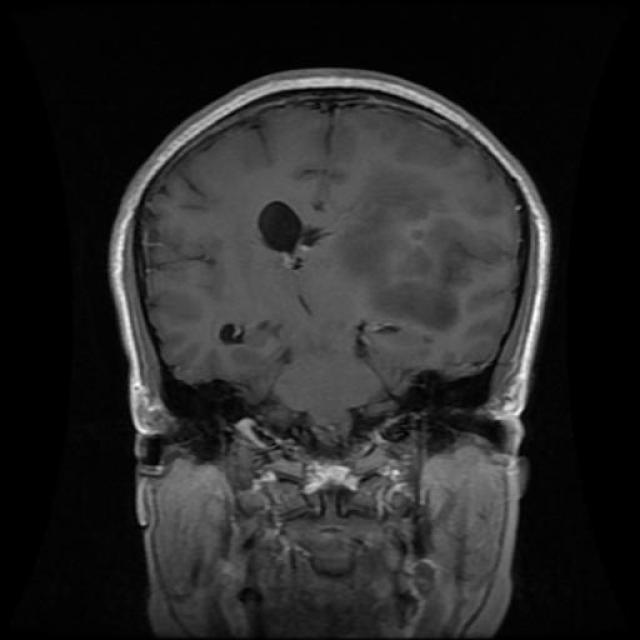glioma: (344, 182, 468, 326)
